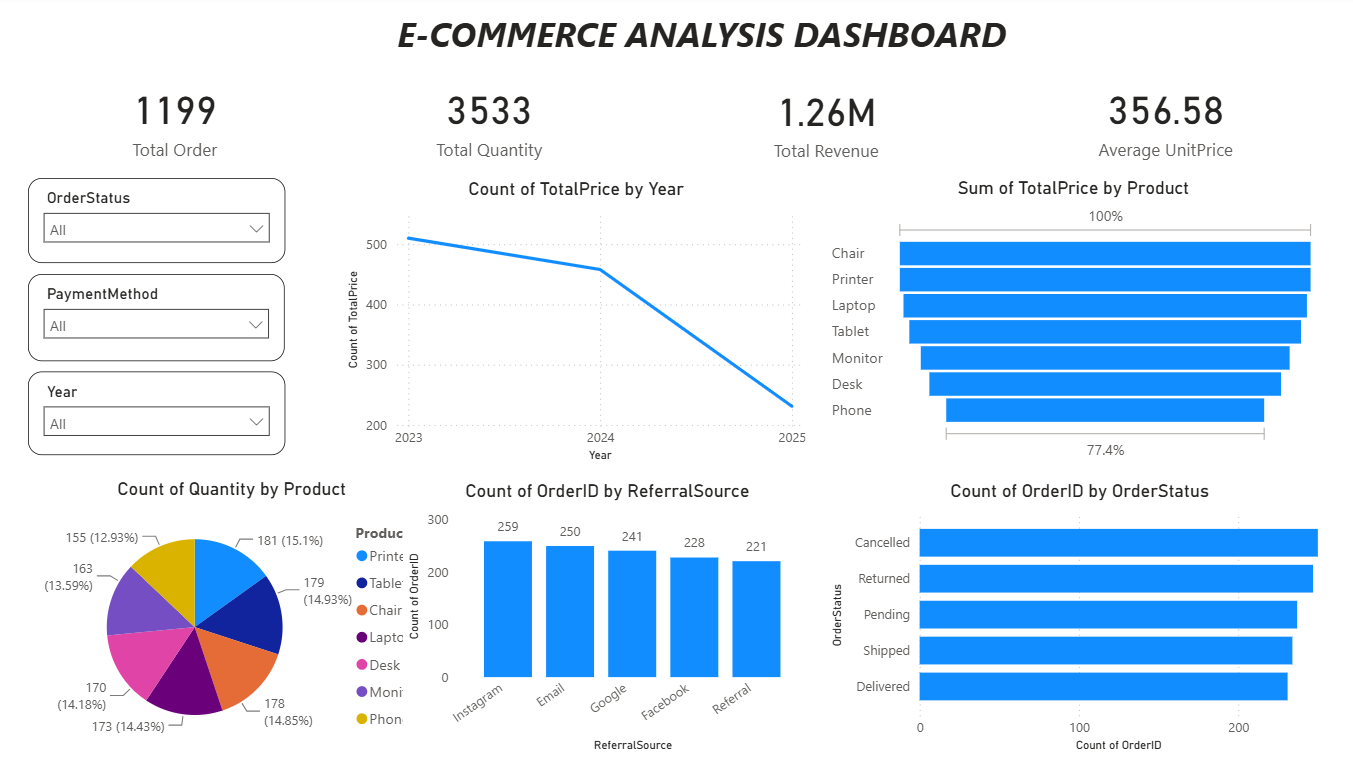

What the dashboard file says about the page in this screenshot:
{"tool":"powerbi","page":{"name":"Page 1","canvas":[1280,720],"ordinal":0},"visuals":[{"type":"card","fields":{"Values":["Sum(Cleaned_Data.Quantity)"]},"box":[324.4,69.8,272.1,89.5],"z":0},{"type":"card","fields":{"Values":["Sum(Cleaned_Data.TotalPrice)"]},"box":[619.8,70.9,310.5,89.5],"z":1000},{"type":"card","fields":{"Values":["Avg(Cleaned_Data.UnitPrice)"]},"box":[945.4,69.8,291.9,89.5],"z":2000},{"type":"funnel","fields":{"Category":["Cleaned_Data.Product"],"Y":["Sum(Cleaned_Data.TotalPrice)"]},"box":[775.6,169.8,461.6,269.8],"z":3000},{"type":"pieChart","fields":{"Category":["Cleaned_Data.Product"],"Y":["CountNonNull(Cleaned_Data.Quantity)"]},"box":[30.2,451.2,380.2,258.1],"z":4000},{"type":"clusteredBarChart","fields":{"Category":["Cleaned_Data.OrderStatus"],"Y":["CountNonNull(Cleaned_Data.OrderID)"]},"box":[775.3,451.5,473.4,258],"z":5000},{"type":"lineChart","fields":{"Category":["Cleaned_Data.Year"],"Y":["CountNonNull(Cleaned_Data.TotalPrice)"]},"box":[323.8,170.2,437.7,269],"z":6000},{"type":"clusteredColumnChart","fields":{"Category":["Cleaned_Data.ReferralSource"],"Y":["CountNonNull(Cleaned_Data.OrderID)"]},"box":[380.1,451.5,381.5,258],"z":7000},{"type":"textbox","box":[265.1,8.1,787.2,76.7],"z":8000},{"type":"card","fields":{"Values":["CountNonNull(Cleaned_Data.OrderID)"]},"box":[30.2,69.8,273.3,89.5],"z":9000},{"type":"slicer","fields":{"Values":["Cleaned_Data.OrderStatus"]},"box":[30.2,170.2,240.1,79.6],"z":10000},{"type":"slicer","fields":{"Values":["Cleaned_Data.PaymentMethod"]},"box":[30.2,260.5,239.5,81.4],"z":11000},{"type":"slicer","fields":{"Values":["Cleaned_Data.Year"]},"box":[30.2,351.3,240.1,78.2],"z":12000}]}

Visuals, with their boxes in screenshot pixels (x1, y1, x2, y2), scaled from the page's 1280x720 canvas onto the 1353x765 screenshot:
card - Sum(Cleaned_Data.Quantity): box(343, 74, 631, 169)
card - Sum(Cleaned_Data.TotalPrice): box(655, 75, 983, 170)
card - Avg(Cleaned_Data.UnitPrice): box(999, 74, 1308, 169)
funnel - Cleaned_Data.Product x Sum(Cleaned_Data.TotalPrice): box(820, 180, 1308, 467)
pieChart - Cleaned_Data.Product x CountNonNull(Cleaned_Data.Quantity): box(32, 479, 434, 754)
clusteredBarChart - Cleaned_Data.OrderStatus x CountNonNull(Cleaned_Data.OrderID): box(820, 480, 1320, 754)
lineChart - Cleaned_Data.Year x CountNonNull(Cleaned_Data.TotalPrice): box(342, 181, 805, 467)
clusteredColumnChart - Cleaned_Data.ReferralSource x CountNonNull(Cleaned_Data.OrderID): box(402, 480, 805, 754)
textbox: box(280, 9, 1112, 90)
card - CountNonNull(Cleaned_Data.OrderID): box(32, 74, 321, 169)
slicer - Cleaned_Data.OrderStatus: box(32, 181, 286, 265)
slicer - Cleaned_Data.PaymentMethod: box(32, 277, 285, 363)
slicer - Cleaned_Data.Year: box(32, 373, 286, 456)
